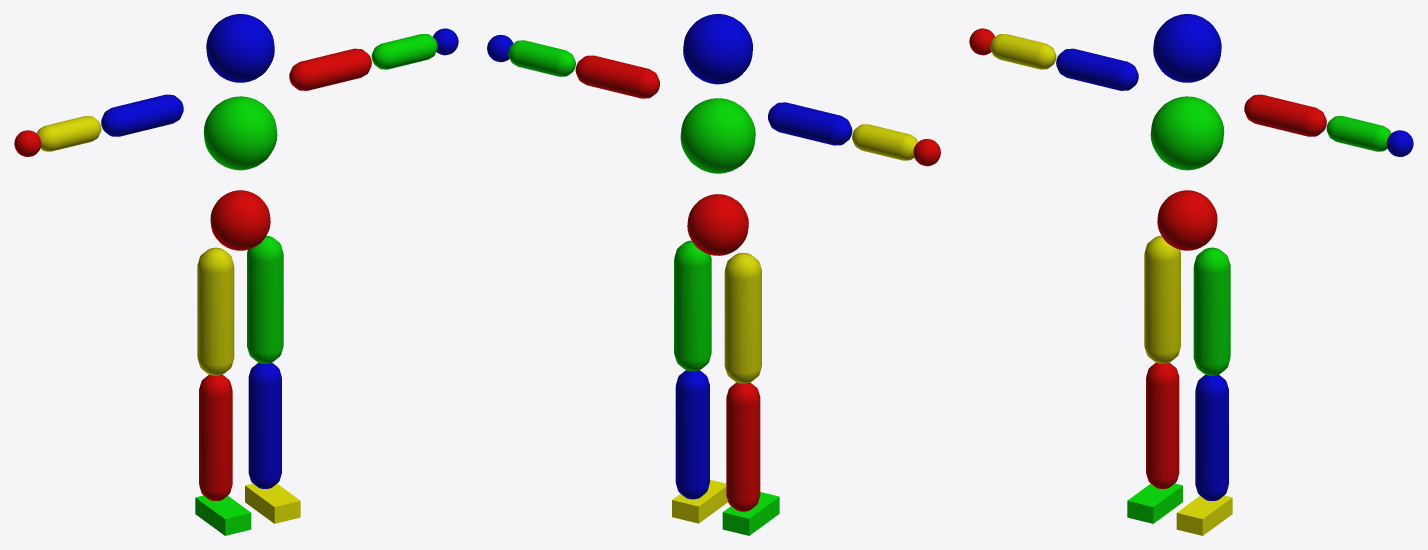
Rendered from humanoid_hik.fbx.
The picture shows the model from 3 angles, left to right: view 1: azimuth 30°, elevation 25°; view 2: azimuth 150°, elevation 25°; view 3: azimuth 330°, elevation 25°; orthographic projection. The views are drawn at different scales.
Visible parts, largest first — view 1: geo:right_hip, geo:left_hip, geo:chest, geo:left_knee, geo:right_knee, geo:neck, geo:root, geo:right_shoulder, geo:left_shoulder, geo:left_elbow, geo:right_elbow, geo:right_ankle (+3 smaller); view 2: geo:right_hip, geo:left_hip, geo:chest, geo:right_knee, geo:left_knee, geo:neck, geo:root, geo:left_shoulder, geo:right_shoulder, geo:left_elbow, geo:right_elbow, geo:right_ankle (+3 smaller); view 3: geo:left_hip, geo:right_hip, geo:chest, geo:right_knee, geo:left_knee, geo:neck, geo:root, geo:left_shoulder, geo:right_shoulder, geo:right_elbow, geo:left_elbow, geo:left_ankle (+3 smaller).
Boxes of the visible parts, x1=… form: geo:right_hip: x1=197, y1=247, x2=234, y2=375; geo:left_hip: x1=247, y1=235, x2=283, y2=363; geo:chest: x1=203, y1=96, x2=277, y2=170; geo:left_knee: x1=248, y1=362, x2=281, y2=488; geo:right_knee: x1=199, y1=375, x2=232, y2=500; geo:neck: x1=206, y1=14, x2=274, y2=82; geo:root: x1=210, y1=190, x2=270, y2=250; geo:right_shoulder: x1=101, y1=94, x2=183, y2=136; geo:left_shoulder: x1=289, y1=48, x2=371, y2=90; geo:left_elbow: x1=371, y1=34, x2=437, y2=69; geo:right_elbow: x1=37, y1=116, x2=101, y2=151; geo:right_ankle: x1=195, y1=495, x2=251, y2=535; geo:right_hip: x1=724, y1=253, x2=761, y2=383; geo:left_hip: x1=674, y1=240, x2=711, y2=371; geo:chest: x1=680, y1=98, x2=755, y2=173; geo:right_knee: x1=726, y1=382, x2=760, y2=511; geo:left_knee: x1=675, y1=370, x2=709, y2=499; geo:neck: x1=683, y1=14, x2=752, y2=84; geo:root: x1=687, y1=194, x2=748, y2=255; geo:left_shoulder: x1=575, y1=55, x2=659, y2=98; geo:right_shoulder: x1=768, y1=102, x2=852, y2=145; geo:left_elbow: x1=508, y1=40, x2=575, y2=76; geo:right_elbow: x1=852, y1=124, x2=917, y2=160; geo:right_ankle: x1=722, y1=492, x2=779, y2=535; geo:left_hip: x1=1193, y1=247, x2=1230, y2=375; geo:right_hip: x1=1144, y1=235, x2=1180, y2=363; geo:chest: x1=1150, y1=96, x2=1224, y2=170; geo:right_knee: x1=1146, y1=362, x2=1179, y2=488; geo:left_knee: x1=1195, y1=375, x2=1228, y2=500; geo:neck: x1=1153, y1=14, x2=1221, y2=82; geo:root: x1=1157, y1=190, x2=1217, y2=250; geo:left_shoulder: x1=1244, y1=94, x2=1326, y2=136; geo:right_shoulder: x1=1056, y1=48, x2=1138, y2=90; geo:right_elbow: x1=990, y1=34, x2=1056, y2=69; geo:left_elbow: x1=1326, y1=116, x2=1390, y2=151; geo:left_ankle: x1=1176, y1=495, x2=1232, y2=535.
Size of the model in its own units: 60.55 by 9.74 by 64.76.
